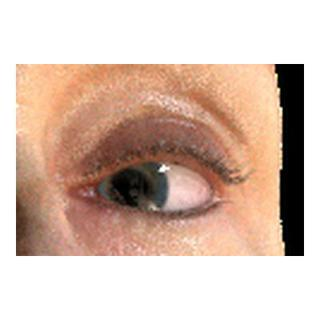pupil: (112, 170, 147, 206)
